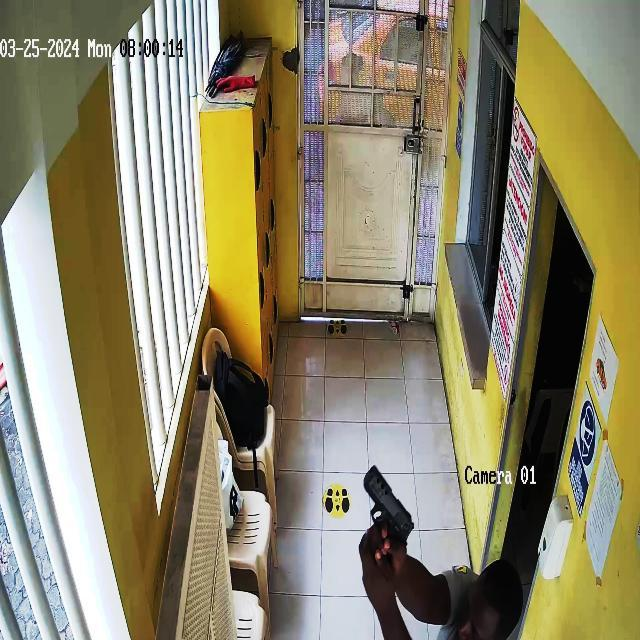Gun: (355, 458, 441, 562)
